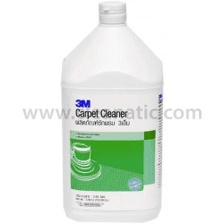cleaning_solution: (57, 0, 164, 223)
